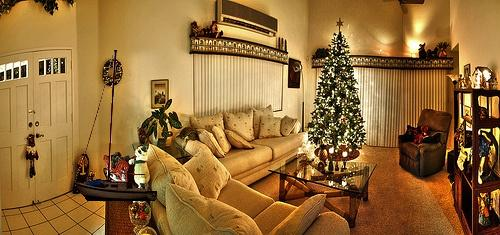tampered: (75, 51, 157, 201)
